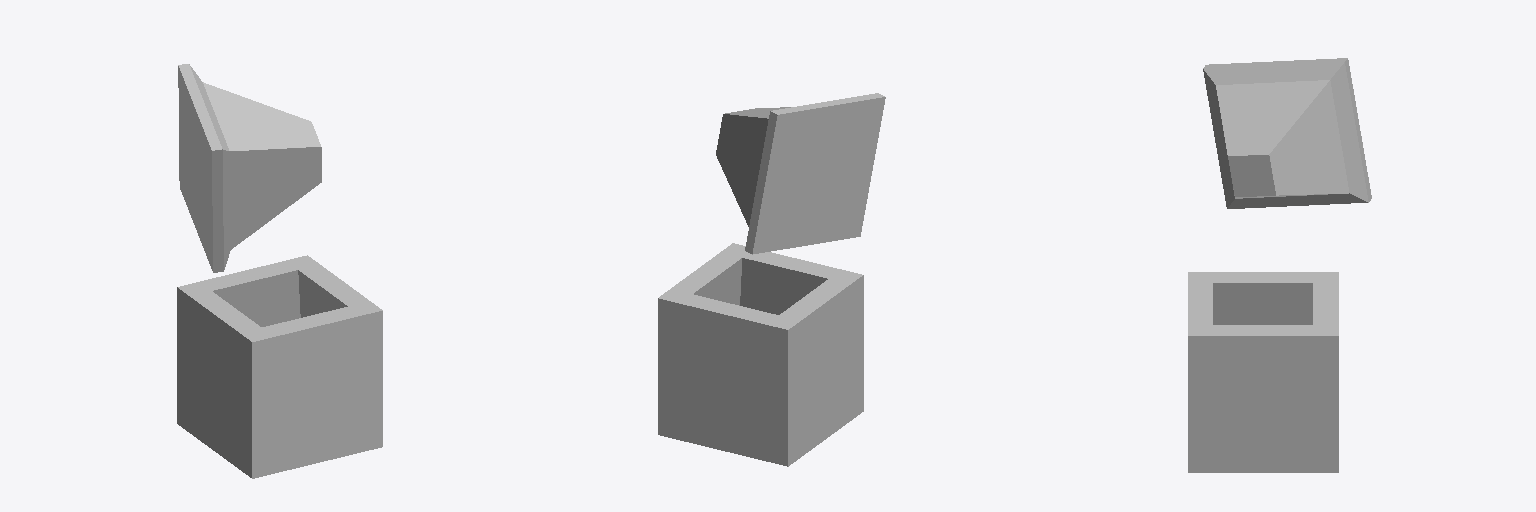
File: AnimatedBox_000103.obj
3 renders of one model, left to right at view 1: azimuth 30°, elevation 25°; view 2: azimuth 150°, elevation 25°; view 3: azimuth 270°, elevation 25°, orthographic.
Visible parts, largest first — view 1: Cube, Cube.001; view 2: Cube, Cube.001; view 3: Cube, Cube.001.
Boxes of the visible parts, x1=… form: Cube: x1=177, y1=255, x2=382, y2=478; Cube.001: x1=178, y1=64, x2=321, y2=272; Cube: x1=658, y1=243, x2=863, y2=466; Cube.001: x1=716, y1=93, x2=885, y2=254; Cube: x1=1188, y1=272, x2=1338, y2=472; Cube.001: x1=1203, y1=58, x2=1371, y2=208.
Bounding box in the file's own units: 2.48 × 5.18 × 2.44.